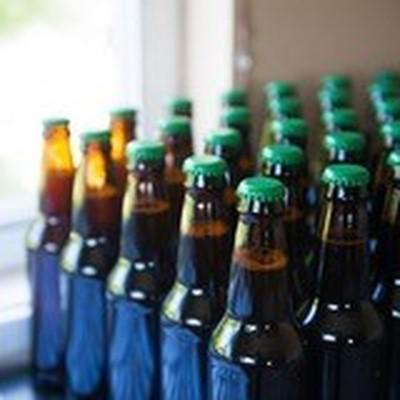beer: (26, 68, 399, 400)
